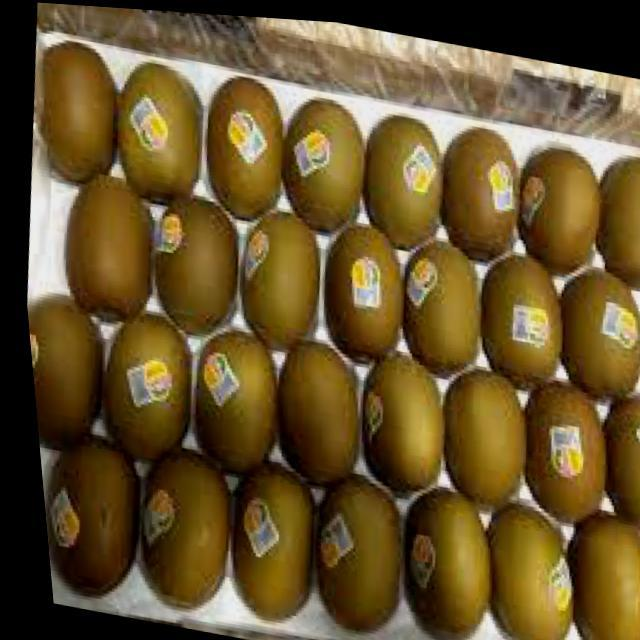kiwi: (111, 434, 234, 625), (202, 444, 320, 627), (288, 459, 406, 639), (31, 425, 144, 607), (79, 301, 197, 469), (380, 475, 495, 640), (18, 25, 131, 191), (419, 350, 534, 513), (47, 168, 162, 327), (255, 329, 370, 488), (173, 317, 285, 480), (339, 339, 451, 502), (500, 361, 612, 524), (185, 60, 295, 222), (133, 186, 247, 342), (103, 49, 215, 205), (302, 208, 409, 367), (422, 107, 529, 263), (265, 83, 375, 233), (465, 492, 576, 640), (346, 98, 454, 250), (221, 197, 329, 349), (21, 285, 112, 463), (536, 248, 640, 403), (466, 236, 569, 388), (387, 226, 487, 377), (503, 128, 607, 270), (541, 496, 640, 640), (577, 133, 640, 290), (582, 375, 640, 531)
